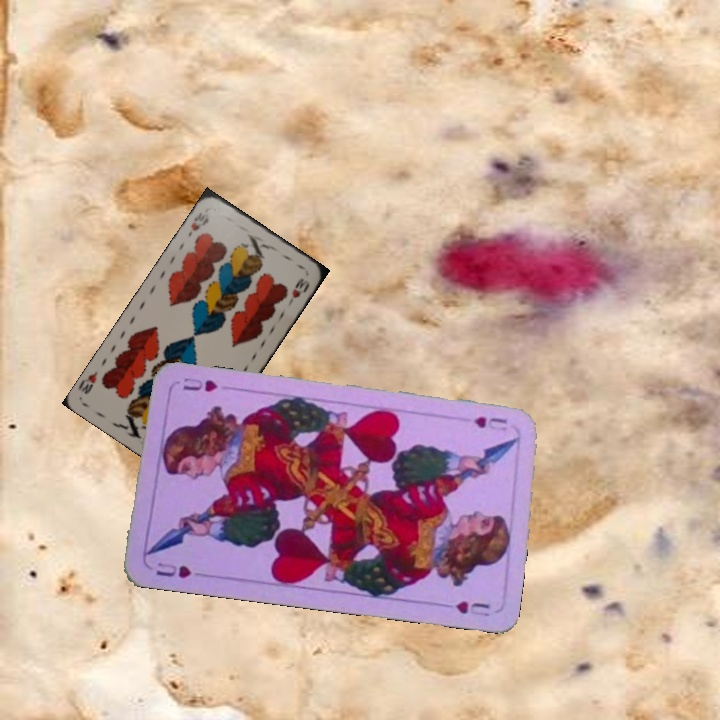H10: (183, 209, 212, 239)
HU: (152, 558, 194, 581), (469, 412, 510, 435)
